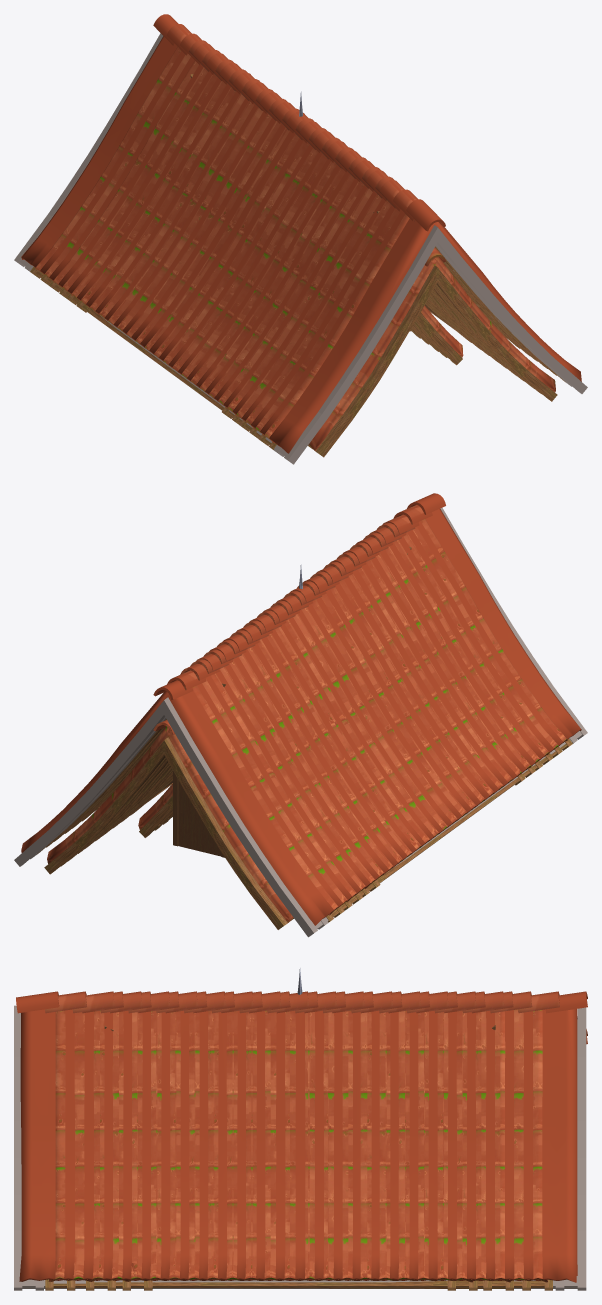
File: kit.glb
3 views of the same model, one above another, from view 1: azimuth 30°, elevation 25°; view 2: azimuth 150°, elevation 25°; view 3: azimuth 270°, elevation 25° (orthographic). The views are drawn at different scales.
Parts seen in each view (by area): view 1: Roof_RoundTiles_8x14, Roof_RoundTiles_8x12, Roof_RoundTiles_8x10, Roof_RoundTiles_6x14, Roof_RoundTiles_8x8, Roof_RoundTiles_4x8, Roof_RoundTiles_6x12; view 2: Roof_RoundTiles_8x14, Roof_RoundTiles_8x10, Roof_RoundTiles_8x12, Roof_RoundTiles_8x8, Roof_RoundTiles_6x14, Stair_Interior_SolidExtended, Roof_RoundTiles_4x8; view 3: Roof_RoundTiles_8x14, Roof_RoundTiles_8x12, Roof_RoundTiles_8x10, Roof_RoundTiles_8x8.
Boxes of the visible parts, x1,y1,x2,y2 form: Roof_RoundTiles_8x14: (14,14,587,464); Roof_RoundTiles_8x12: (30,24,565,449); Roof_RoundTiles_8x10: (48,40,547,438); Roof_RoundTiles_6x14: (308,248,557,457); Roof_RoundTiles_8x8: (66,50,529,424); Roof_RoundTiles_4x8: (413,305,463,365); Roof_RoundTiles_6x12: (425,286,533,388); Roof_RoundTiles_8x14: (14,493,587,937); Roof_RoundTiles_8x10: (54,523,553,910); Roof_RoundTiles_8x12: (36,505,572,922); Roof_RoundTiles_8x8: (72,533,535,896); Roof_RoundTiles_6x14: (44,720,293,929); Stair_Interior_SolidExtended: (173,771,224,857); Roof_RoundTiles_4x8: (138,783,172,837); Roof_RoundTiles_8x14: (14,991,587,1290); Roof_RoundTiles_8x12: (45,991,559,1290); Roof_RoundTiles_8x10: (82,991,513,1290); Roof_RoundTiles_8x8: (122,991,485,1290).
Size of the model in its own units: 9.95 by 8.91 by 15.71.
Materials: 10 (9 with a texture image).
